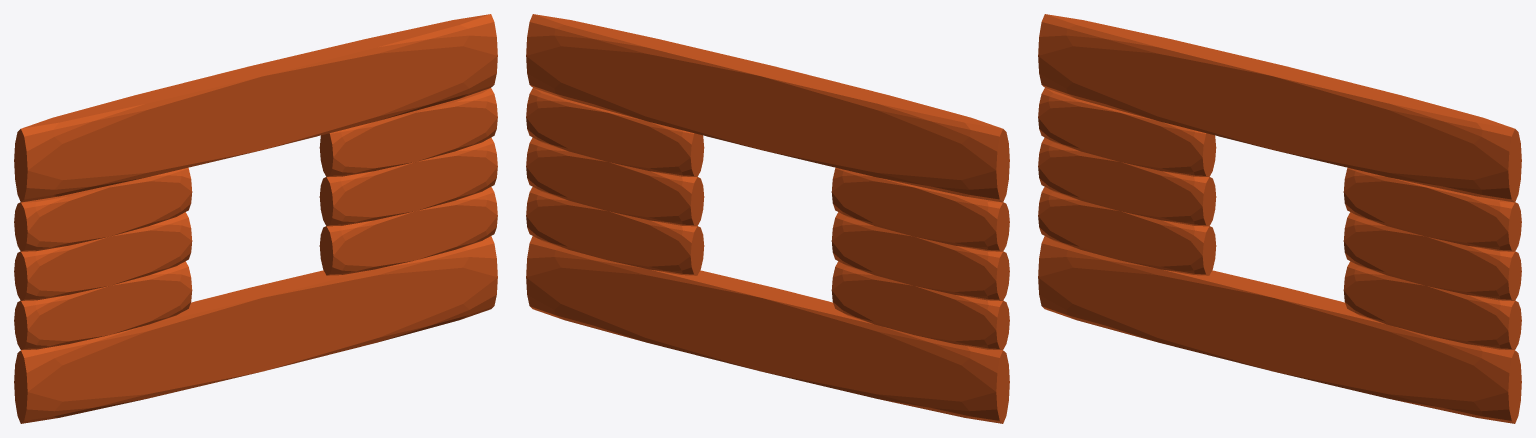
Rendered from Wall_Frame.fbx.
3 views of the same model, side by side, from view 1: azimuth 30°, elevation 25°; view 2: azimuth 150°, elevation 25°; view 3: azimuth 330°, elevation 25° (orthographic).
Visible parts, largest first — view 1: Cube.021, Cube.026, Cube.023, Cube.017, Cube.018, Cube.024, Cube.019, Cube.025; view 2: Cube.021, Cube.026, Cube.023, Cube.017, Cube.018, Cube.024, Cube.019, Cube.025; view 3: Cube.021, Cube.026, Cube.017, Cube.023, Cube.024, Cube.018, Cube.025, Cube.019.
Boxes of the visible parts, x1,y1,x2,y2 form: Cube.021: [14, 14, 497, 202]; Cube.026: [14, 236, 497, 423]; Cube.023: [14, 168, 192, 251]; Cube.017: [319, 88, 497, 176]; Cube.018: [14, 212, 192, 300]; Cube.024: [319, 137, 497, 226]; Cube.019: [319, 187, 497, 275]; Cube.025: [14, 261, 192, 349]; Cube.021: [526, 14, 1009, 202]; Cube.026: [526, 236, 1009, 423]; Cube.023: [831, 168, 1009, 251]; Cube.017: [526, 88, 704, 176]; Cube.018: [831, 212, 1009, 300]; Cube.024: [526, 137, 704, 226]; Cube.019: [526, 187, 704, 275]; Cube.025: [831, 261, 1009, 349]; Cube.021: [1038, 14, 1521, 202]; Cube.026: [1038, 236, 1521, 423]; Cube.017: [1343, 168, 1521, 251]; Cube.023: [1038, 88, 1216, 176]; Cube.024: [1343, 212, 1521, 300]; Cube.018: [1038, 137, 1216, 226]; Cube.025: [1038, 187, 1216, 275]; Cube.019: [1343, 261, 1521, 349].
Size of the model in its own units: 500 by 300 by 25.
